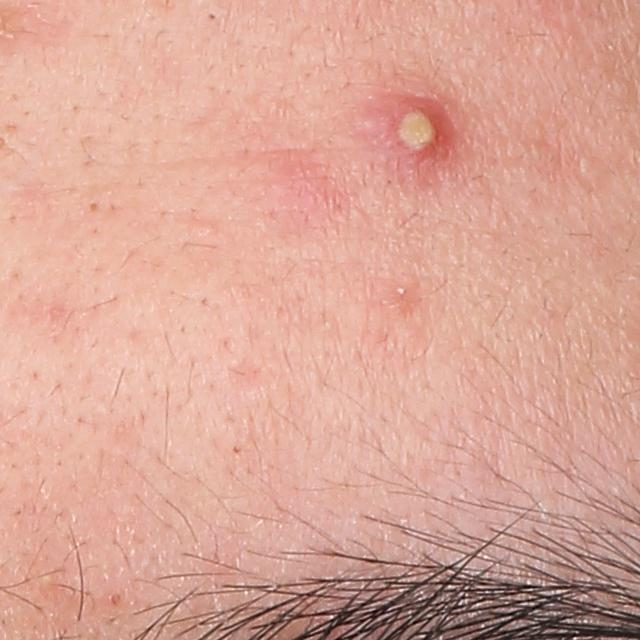comedo: (106, 587, 127, 607), (393, 282, 410, 302), (86, 199, 100, 215), (206, 12, 220, 25)
pustule: (356, 84, 455, 176)
